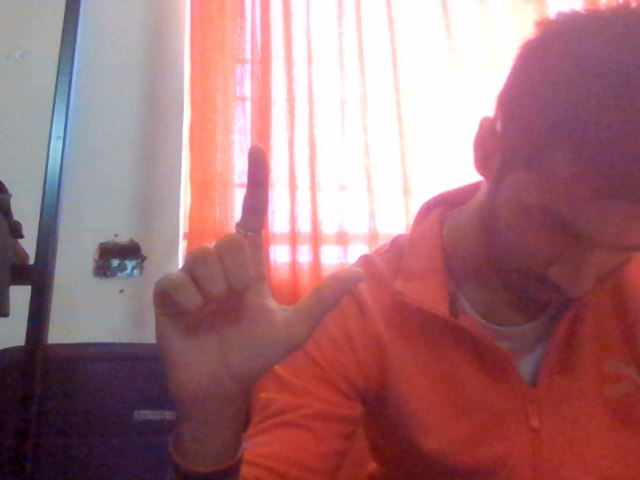L: (99, 127, 404, 449)
